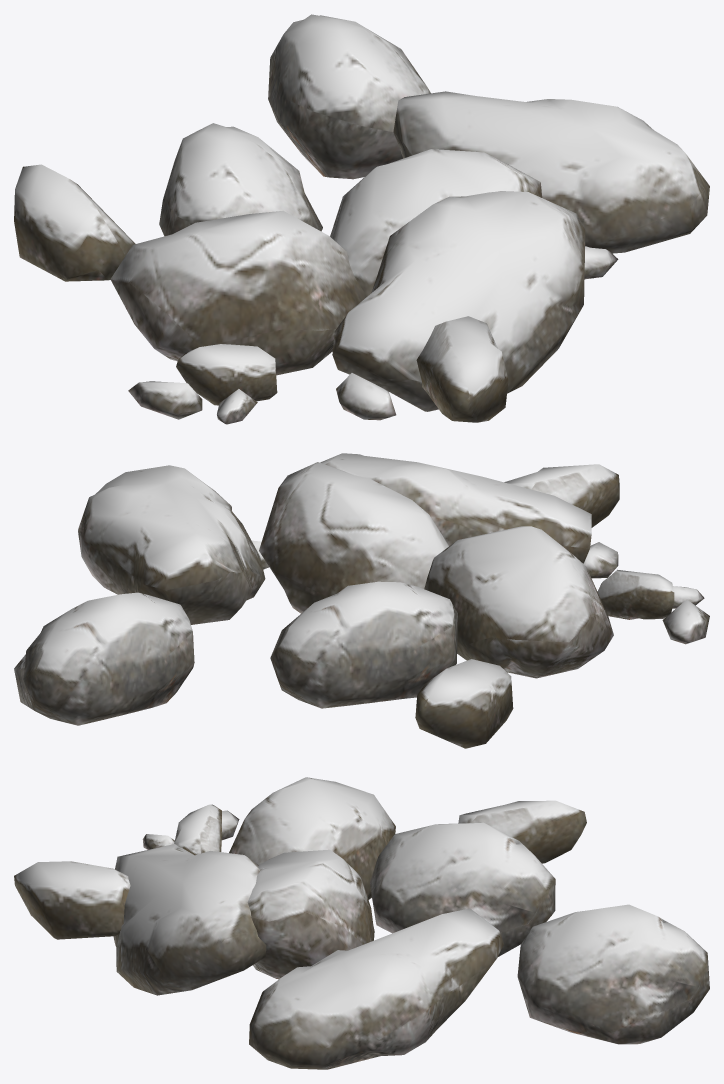
3 views of the same model, one above another, from view 1: azimuth 30°, elevation 25°; view 2: azimuth 150°, elevation 25°; view 3: azimuth 270°, elevation 25° (orthographic). The views are drawn at different scales.
Visible parts, largest first — view 1: 1_wj_01_05; view 2: 1_wj_01_05; view 3: 1_wj_01_05.
Part boxes in pixels (x1,y1,x2,y2): 1_wj_01_05: (14,14,709,424); 1_wj_01_05: (14,453,709,748); 1_wj_01_05: (14,777,709,1069).
Bounding box in the file's own units: 1.77 × 0.4448 × 2.01.
Materials: 1 (1 with a texture image).
